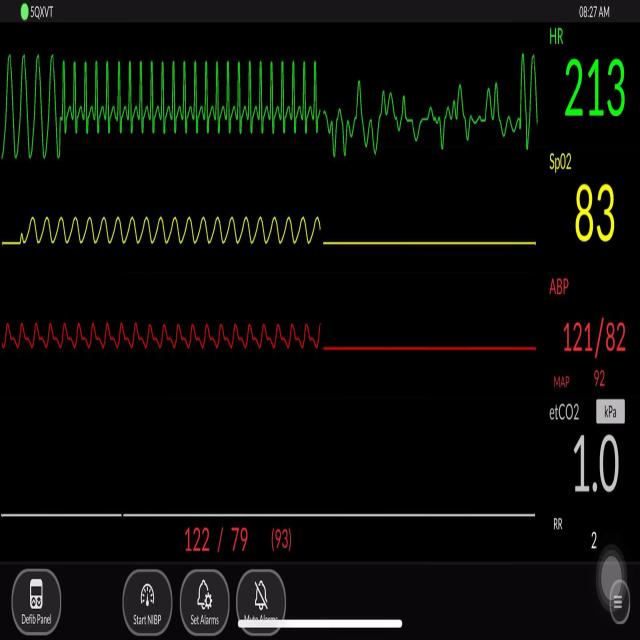danger: (64, 54, 328, 146), (7, 40, 59, 171)
